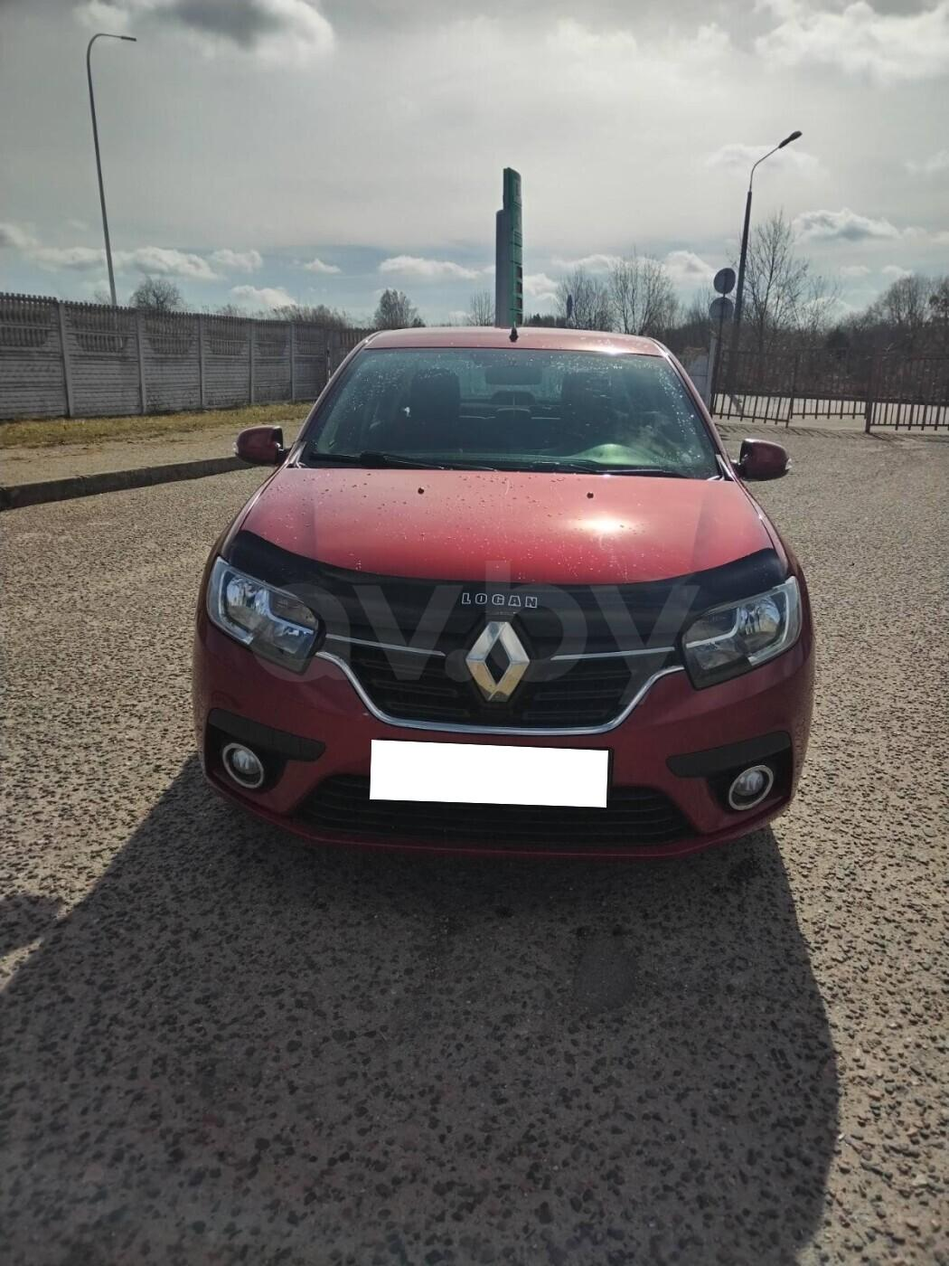Logan_2018: (174, 324, 832, 868)
